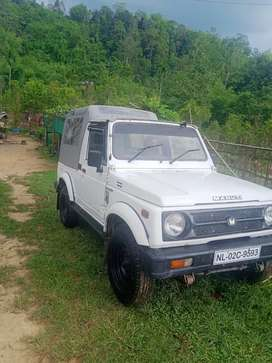NL02C9593: (213, 245, 261, 264)
